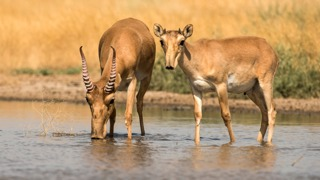saiga: (152, 22, 277, 147), (79, 17, 159, 141)
